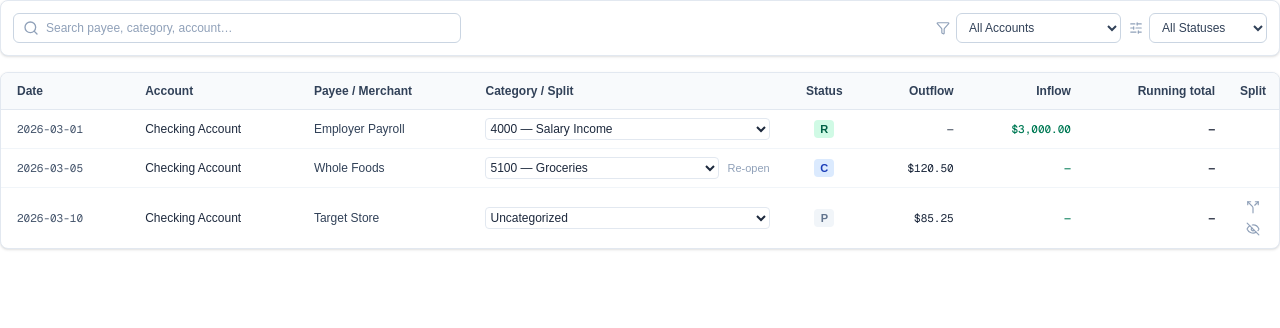
Test: TransactionRegister › creates an account from the category list and categorizes the row to it
Select "+ New account…" in the dropdown named "Category for Target Store". click: (628, 218)
box: [486,207,770,229]
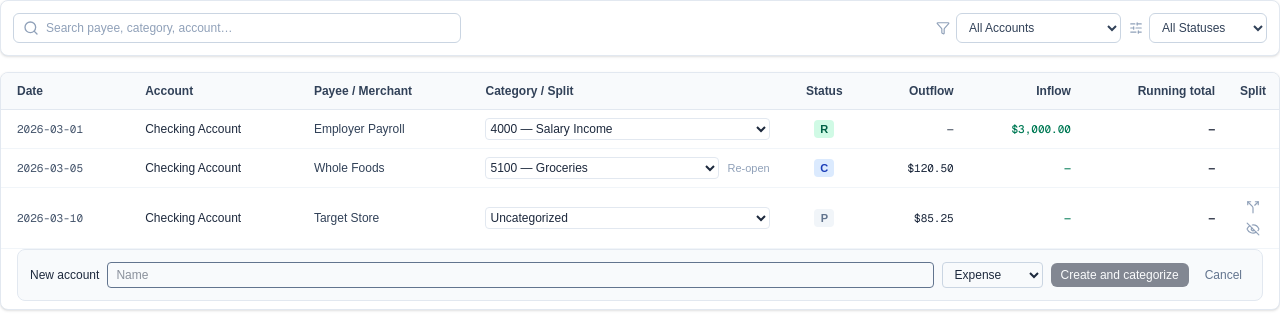
Type "Pets" into the field labelled "New account". click: (520, 275)
box: [107,262,934,288]
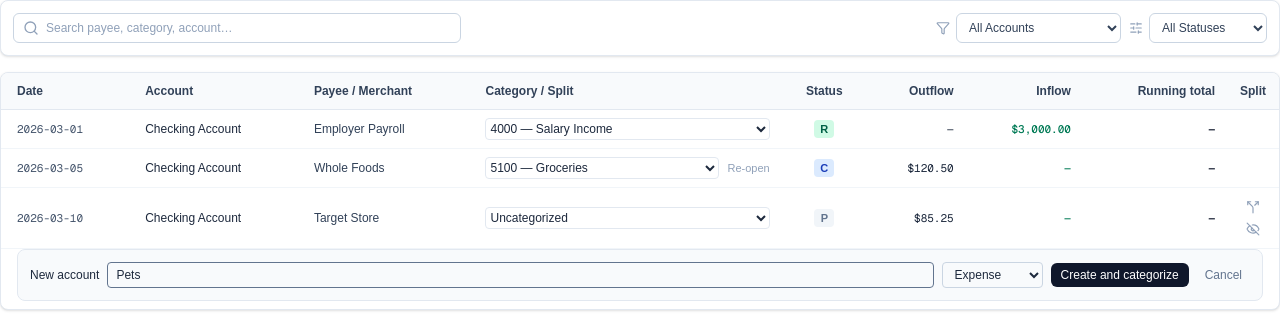
Expected: the dropdown named "New account type" shows "Expense", [942,262,1043,288]
Click the button "Create and categorize". click: (1120, 275)
box: [1051,263,1189,287]
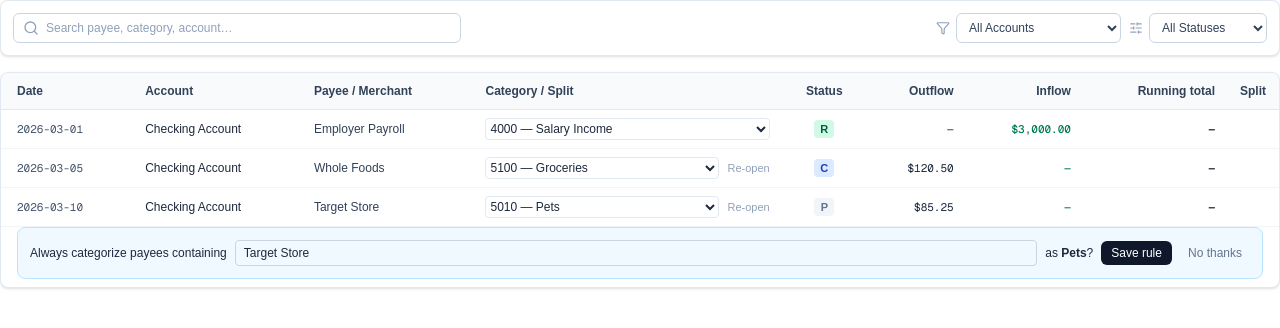
Expected: the field labelled "Always categorize payees containing" is shown, [235,240,1037,266]
Expected: the text "Pets" is shown, [1061,246,1087,260]
